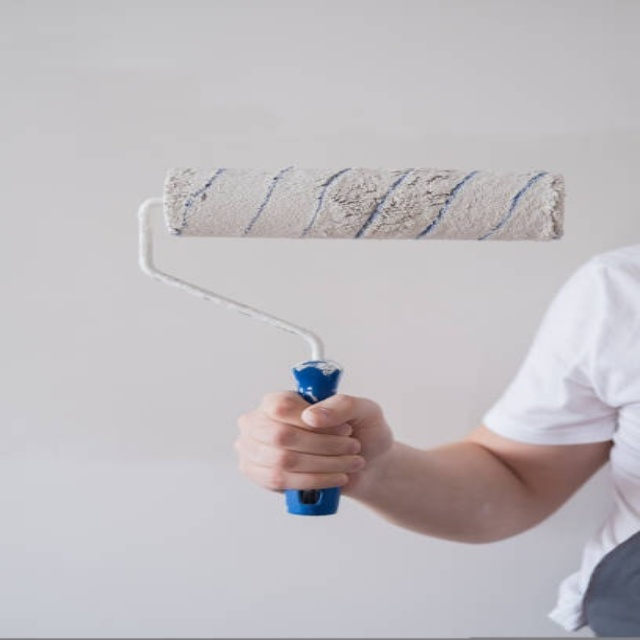Sin_guantes: (235, 388, 383, 497)
